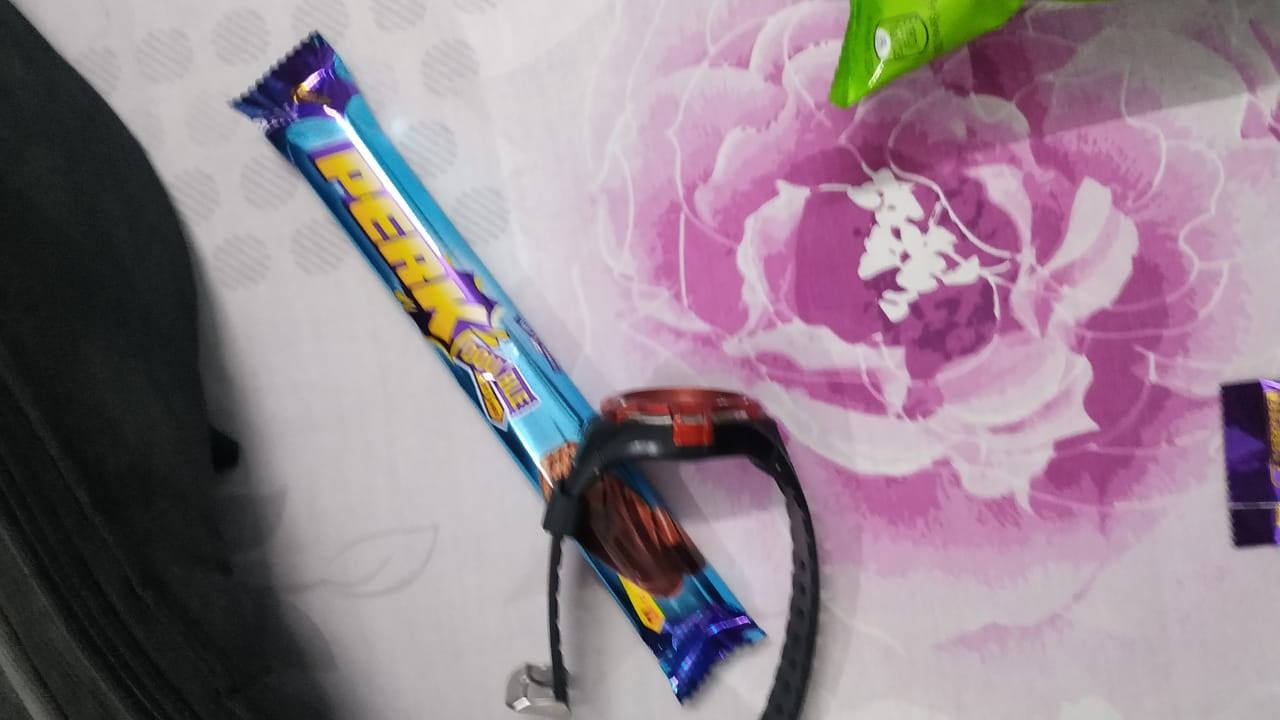perk: (227, 25, 765, 681)
